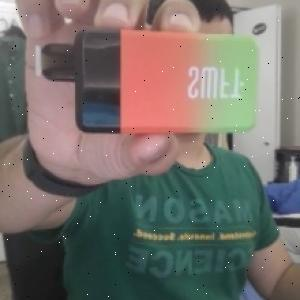Swift-E-Ciggirate: (31, 22, 260, 138)
